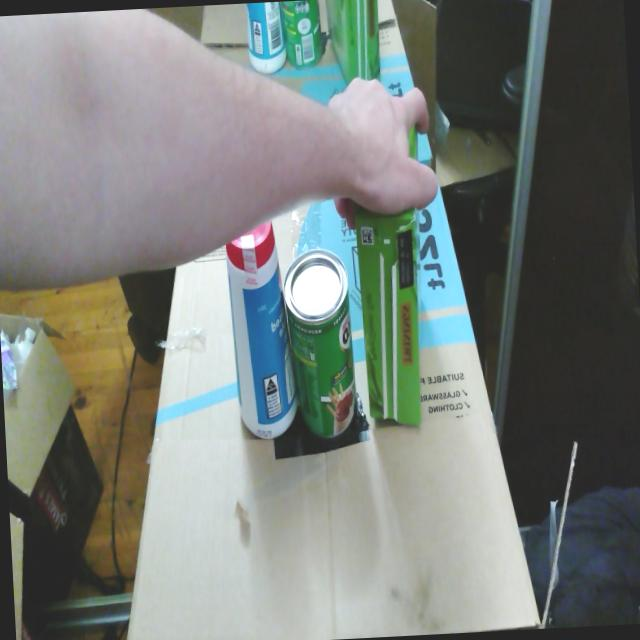nestle_milo_tin: (283, 249, 357, 437)
twinings_greentea_box: (356, 207, 421, 425), (408, 129, 418, 161)
woolworths_salt_bottle: (226, 220, 298, 439)
